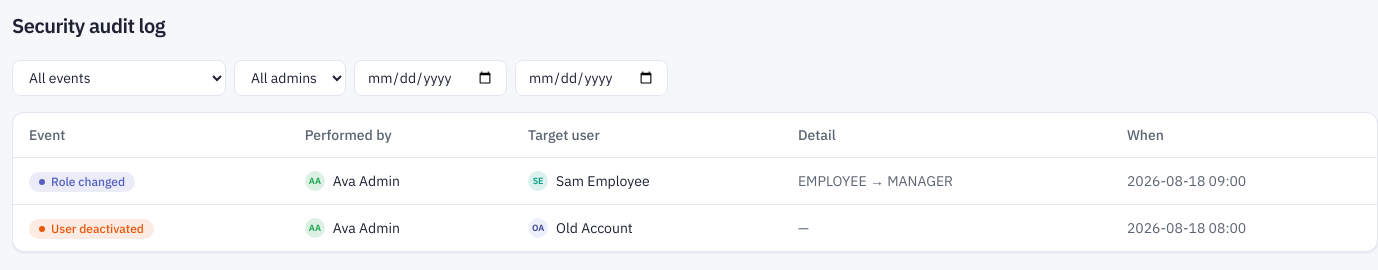
Test case: audit log (P4-11) › filters by event type through the API
Expected: the text "EMPLOYEE → MANAGER" is shown, top-left (798, 172), bottom-right (953, 190)
Select "User deactivated" in the dropdown named "Event": [119, 78] box top-left (12, 60), bottom-right (226, 96)
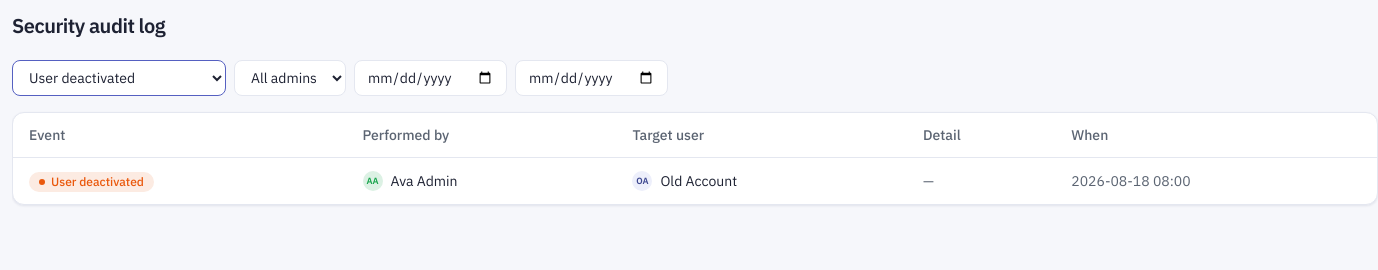
Expected: the text "EMPLOYEE → MANAGER" is gone
